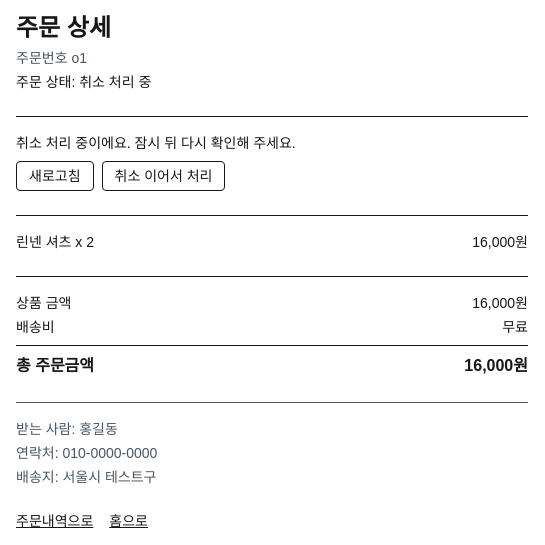
Test: 주문 취소 흐름 › 성공: 취소 처리 중 주문의 '취소 이어서 처리'는 같은 취소 요청을 다시 보내고 취소 완료가 된다
The width and height of the screenshot is (545, 545).
Click the button "취소 이어서 처리". click: x=164, y=176
box: [102,161,226,191]
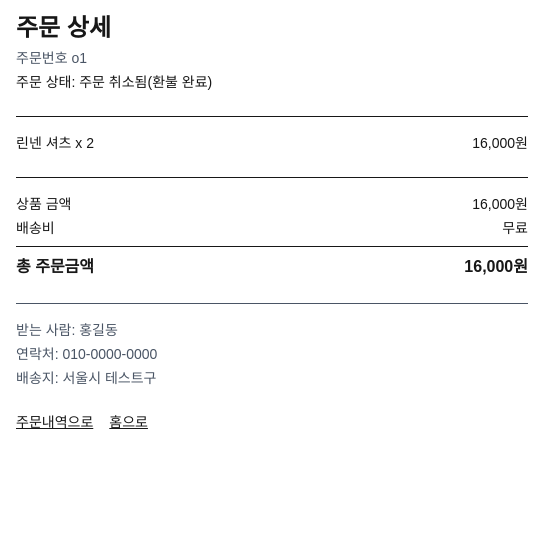
Expected: the text "주문 상태: 주문 취소됨(환불 완료)" is shown, [16,74,212,90]
Expected: the button "취소 이어서 처리" is gone
